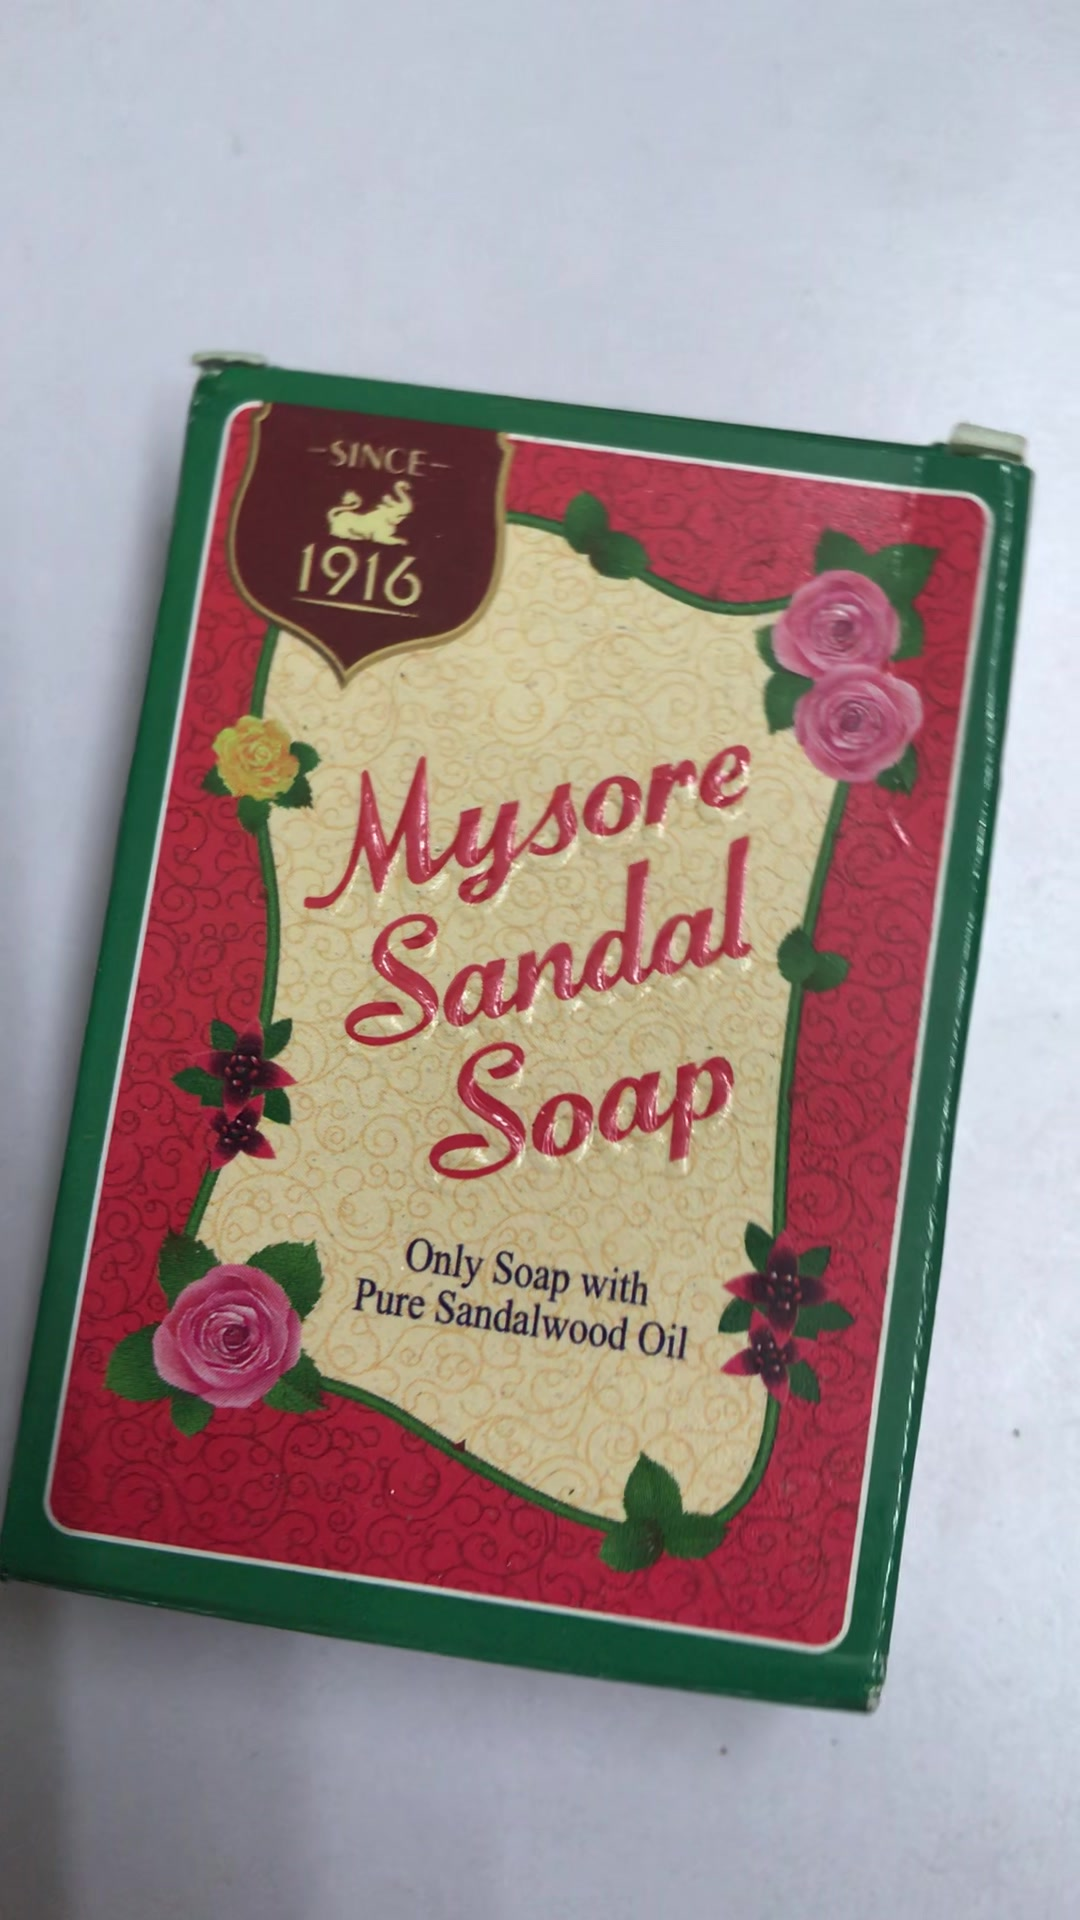mysore sandal soap: (3, 361, 1034, 1713)
